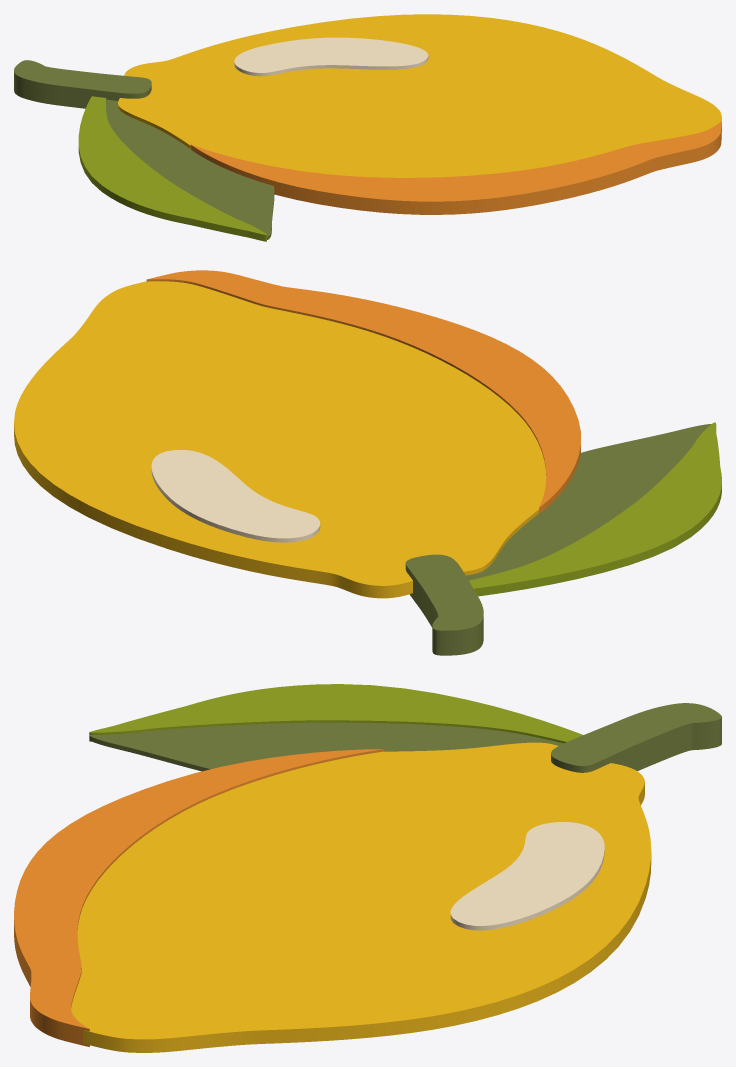
The model's file is emoji_u1f34b.glb.
The picture shows the model from 3 angles, top to bottom: view 1: azimuth 30°, elevation 25°; view 2: azimuth 150°, elevation 25°; view 3: azimuth 270°, elevation 25°; orthographic projection. The views are drawn at different scales.
Visible parts, largest first — view 1: emoji_u1f34b; view 2: emoji_u1f34b; view 3: emoji_u1f34b.
Boxes of the visible parts, x1,y1,x2,y2 form: emoji_u1f34b: (14, 14, 721, 241); emoji_u1f34b: (14, 270, 721, 655); emoji_u1f34b: (14, 684, 721, 1052).
Bounding box in the file's own units: 0.034 × 0.0012 × 0.0284.
